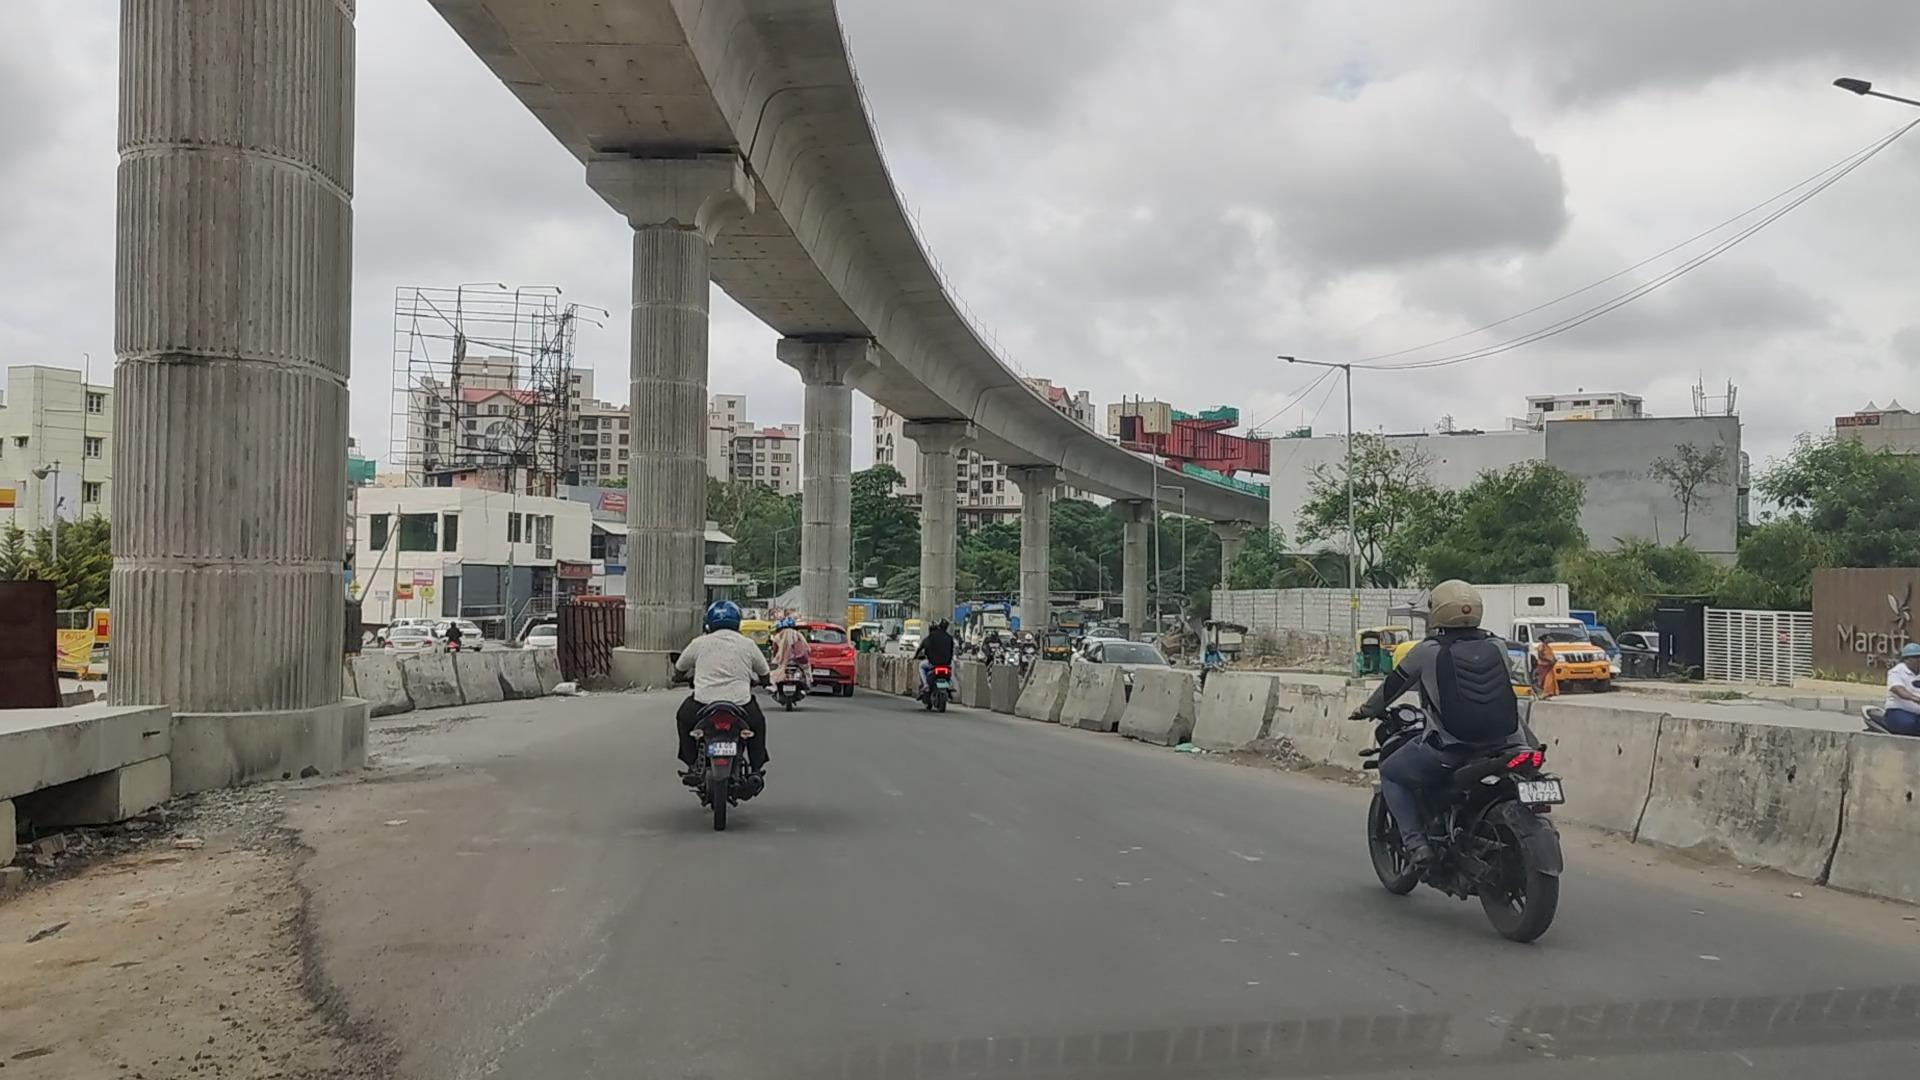LMV: (1356, 572, 1564, 939), (662, 600, 762, 816), (916, 616, 957, 711), (770, 628, 808, 704)
RoadDamages: (235, 802, 415, 1080)
UnsurfacedRoad: (18, 843, 231, 1080)
